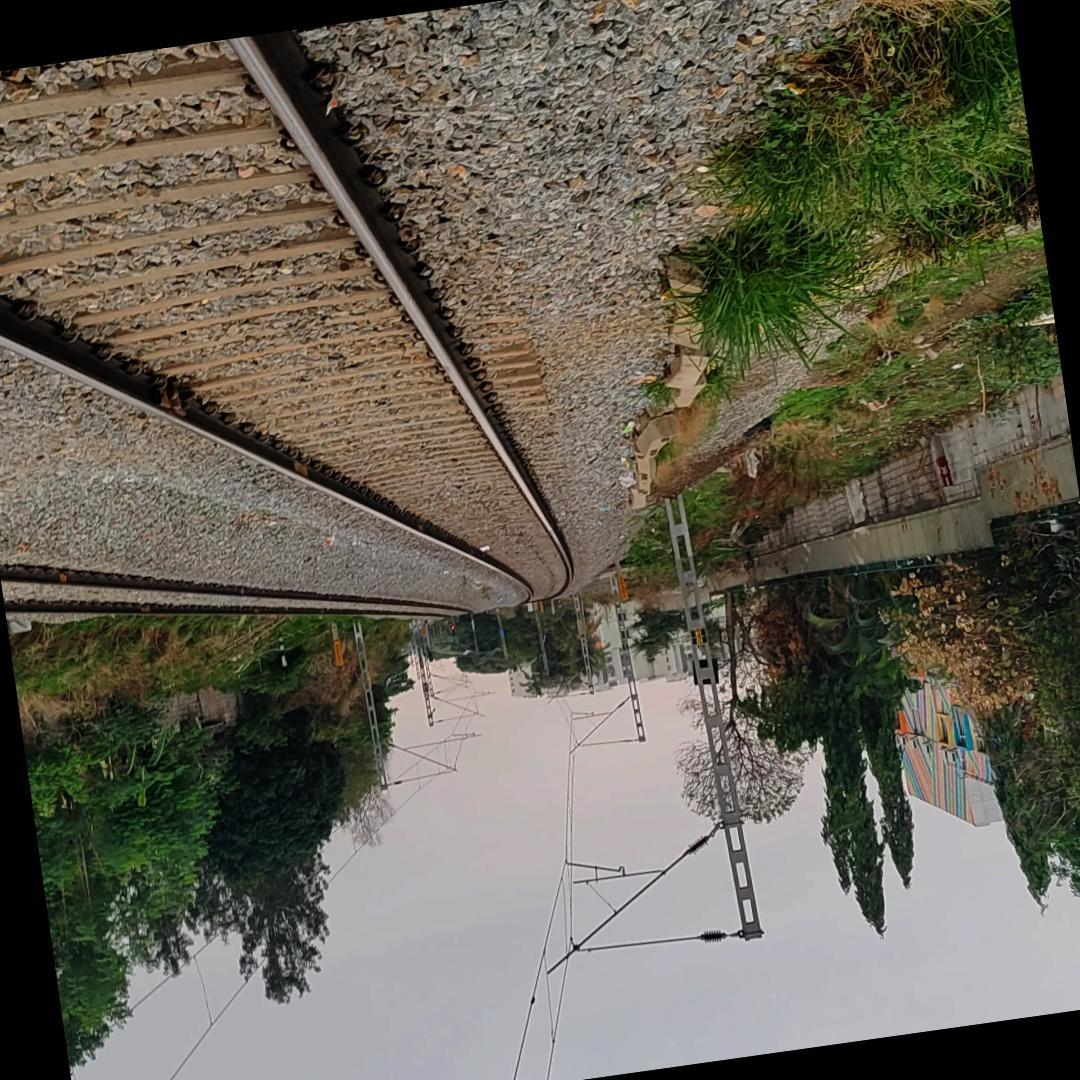track: (0, 27, 586, 612)
